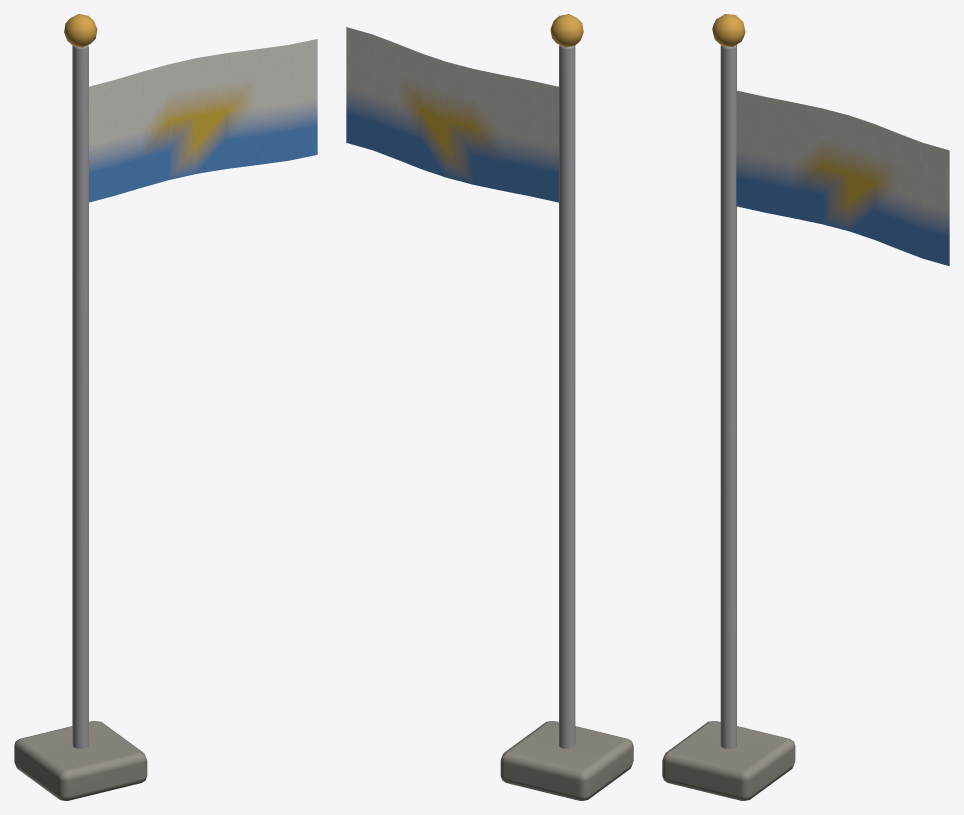
Rendered from furn_dp_flag.glb.
The picture shows the model from 3 angles, left to right: view 1: azimuth 30°, elevation 25°; view 2: azimuth 150°, elevation 25°; view 3: azimuth 330°, elevation 25°; orthographic projection.
Visible parts, largest first — view 1: furn_dp_flag_main, furn_dp_flag_gloss; view 2: furn_dp_flag_main, furn_dp_flag_gloss; view 3: furn_dp_flag_main, furn_dp_flag_gloss.
Boxes of the visible parts, x1,y1,x2,y2 form: furn_dp_flag_main: [14, 39, 317, 800]; furn_dp_flag_gloss: [64, 14, 97, 47]; furn_dp_flag_main: [346, 27, 633, 800]; furn_dp_flag_gloss: [550, 14, 583, 47]; furn_dp_flag_main: [662, 44, 949, 800]; furn_dp_flag_gloss: [712, 14, 745, 47].
Bounding box in the file's own units: 0.74 × 1.97 × 0.24.
